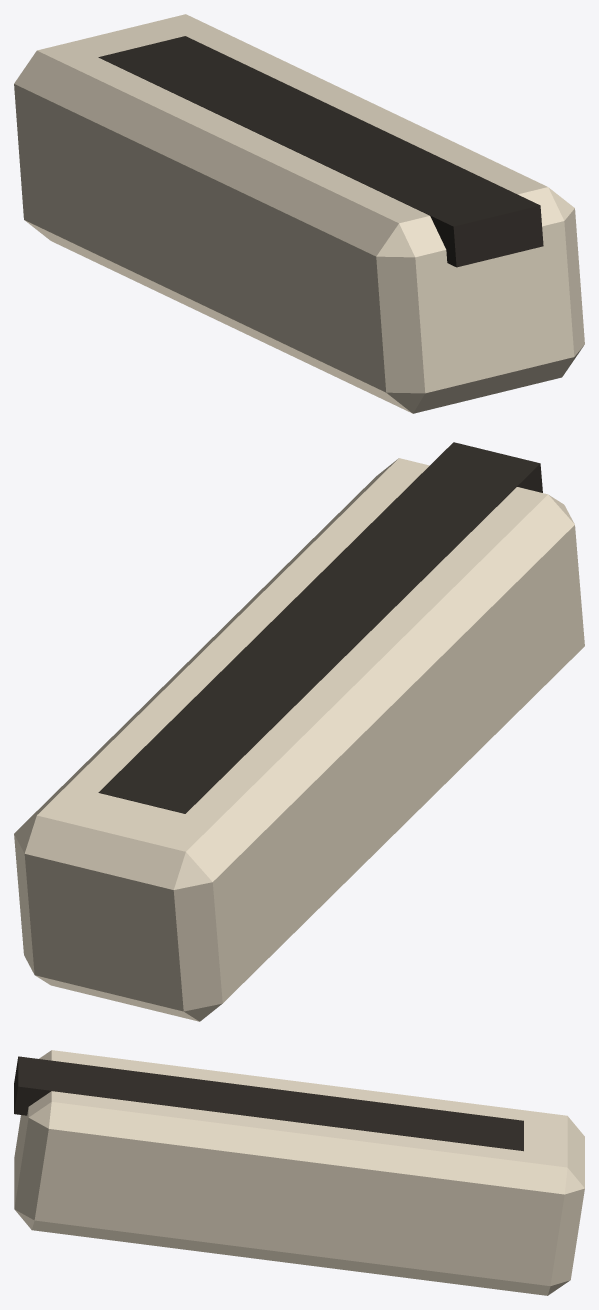
File: corten.glb
3 views of the same model, one above another, from view 1: azimuth 30°, elevation 25°; view 2: azimuth 150°, elevation 25°; view 3: azimuth 270°, elevation 25° (orthographic). The views are drawn at different scales.
Visible parts, largest first — view 1: corten; view 2: corten; view 3: corten.
Part boxes in pixels (x1,y1,x2,y2): corten: (14, 14, 584, 413); corten: (14, 442, 584, 1021); corten: (14, 1050, 584, 1295).
Size of the model in its own units: 0.16 by 0.2145 by 0.5589.
